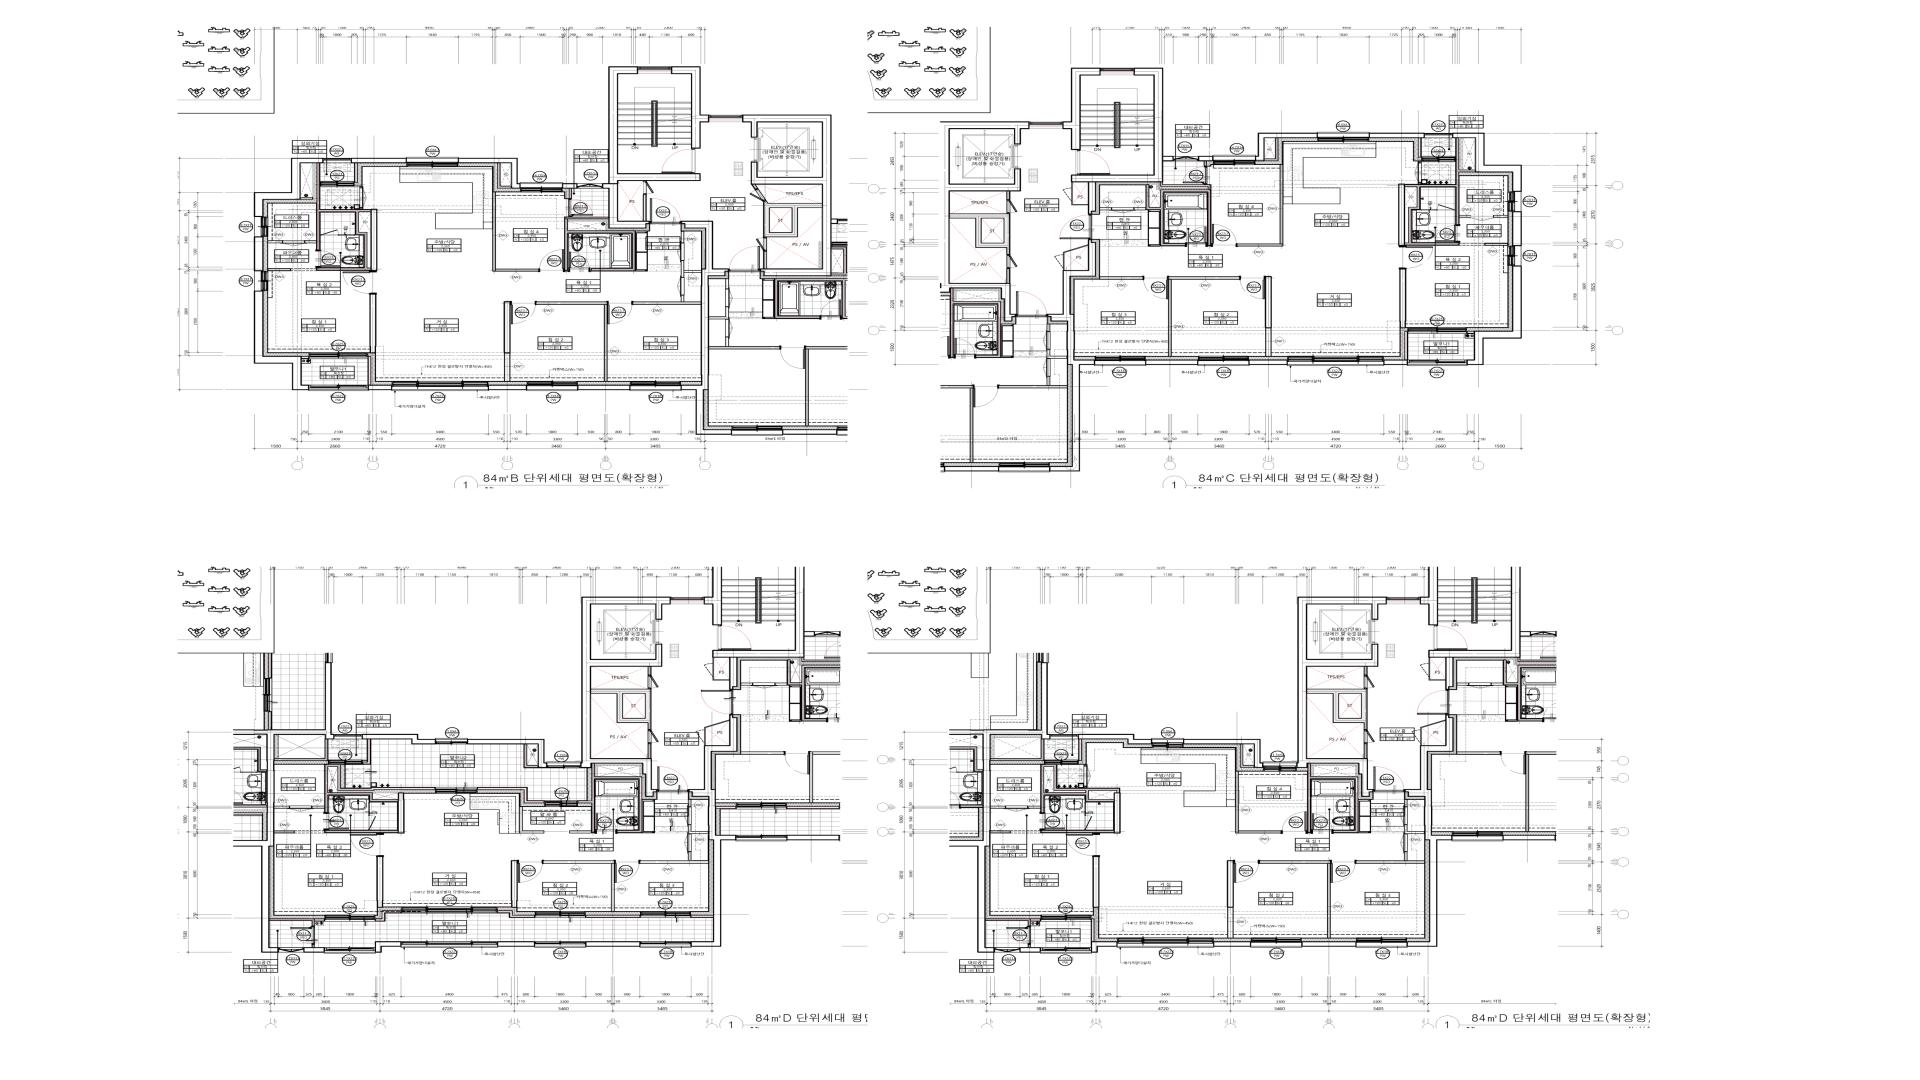door: (717, 625, 752, 650), (1076, 149, 1110, 174), (650, 198, 680, 225), (1373, 766, 1404, 793), (1435, 625, 1468, 650), (662, 149, 696, 173), (343, 270, 377, 294), (1399, 245, 1433, 269), (658, 766, 688, 793), (351, 833, 384, 857), (1067, 833, 1100, 857), (1060, 215, 1092, 239), (1233, 860, 1261, 884), (615, 860, 641, 884), (517, 860, 543, 884), (1331, 860, 1357, 884), (510, 301, 537, 324), (607, 301, 633, 324), (1240, 276, 1266, 299), (1143, 276, 1168, 299), (1282, 811, 1307, 833), (539, 249, 564, 272), (1212, 224, 1237, 247), (1039, 812, 1065, 831), (1435, 224, 1461, 243), (290, 926, 315, 944), (1183, 166, 1208, 185), (323, 812, 349, 829), (595, 814, 617, 833), (568, 252, 591, 272), (1185, 227, 1208, 247), (1006, 927, 1031, 944), (568, 199, 593, 216), (315, 251, 340, 268), (1312, 814, 1333, 833), (748, 189, 766, 204), (1414, 161, 1422, 185), (647, 674, 659, 688), (1364, 729, 1375, 744), (1364, 675, 1375, 688), (756, 237, 767, 251), (360, 186, 367, 210), (1006, 200, 1018, 214), (647, 729, 658, 744), (644, 181, 654, 195), (290, 806, 313, 812), (1084, 765, 1091, 787), (1006, 806, 1029, 812), (1472, 215, 1494, 222), (1112, 207, 1134, 214), (284, 240, 305, 247), (320, 229, 339, 236), (1436, 204, 1455, 211), (368, 815, 376, 829), (1084, 815, 1092, 829)
wall: (582, 596, 671, 796), (1298, 596, 1387, 796), (940, 121, 1029, 322), (977, 731, 1051, 953), (261, 731, 334, 953), (603, 66, 700, 228), (1071, 67, 1174, 215), (742, 115, 831, 277), (1428, 543, 1522, 690), (712, 543, 804, 690), (1404, 715, 1455, 947), (688, 715, 737, 947), (680, 220, 732, 435), (1406, 138, 1476, 245), (1047, 240, 1096, 365), (316, 164, 371, 270), (1168, 277, 1240, 356), (537, 302, 608, 381), (1468, 266, 1522, 365), (255, 291, 309, 390), (1261, 861, 1331, 938), (324, 765, 435, 812), (578, 764, 642, 833), (253, 158, 323, 218), (1452, 133, 1522, 193), (1146, 185, 1212, 247), (1040, 765, 1121, 812), (492, 191, 539, 272), (1237, 165, 1283, 247), (564, 219, 636, 272), (543, 861, 615, 913), (1307, 764, 1358, 833), (671, 66, 709, 149), (704, 543, 742, 625), (1420, 543, 1458, 625), (1063, 69, 1101, 150), (1236, 771, 1282, 833), (467, 738, 547, 769), (1308, 688, 1367, 729), (951, 214, 1010, 255), (1183, 738, 1263, 767), (764, 200, 822, 237), (459, 158, 521, 189), (1255, 133, 1317, 161), (990, 740, 1044, 761), (274, 740, 328, 761), (1042, 767, 1085, 793), (477, 787, 545, 803), (361, 733, 436, 745), (640, 852, 708, 864), (1357, 852, 1424, 864), (1077, 735, 1153, 745), (520, 806, 545, 833), (1420, 720, 1445, 745), (1226, 860, 1234, 939), (633, 295, 700, 305), (1338, 694, 1361, 719), (981, 219, 1004, 243), (504, 302, 510, 382), (1265, 277, 1271, 356), (642, 799, 655, 833), (371, 208, 377, 270), (1092, 857, 1100, 907), (376, 857, 384, 907), (1160, 182, 1211, 190), (369, 295, 376, 353), (253, 236, 264, 272), (1429, 658, 1445, 680), (269, 919, 314, 927), (524, 745, 538, 769), (680, 261, 702, 277), (497, 164, 510, 189), (375, 942, 402, 953), (375, 910, 402, 922), (1513, 211, 1522, 247), (1240, 745, 1254, 767), (1265, 138, 1279, 161), (397, 793, 405, 833), (510, 860, 517, 907), (1091, 942, 1117, 953), (1400, 269, 1406, 327), (497, 910, 535, 918), (351, 158, 407, 164), (986, 919, 1031, 926), (1040, 829, 1114, 833), (324, 829, 398, 833), (585, 942, 641, 947), (1302, 942, 1357, 947), (1369, 133, 1424, 138), (1145, 360, 1199, 365), (576, 385, 630, 390), (1114, 793, 1121, 833), (363, 740, 372, 765), (688, 824, 708, 835), (1249, 360, 1288, 365), (488, 385, 527, 390), (497, 942, 535, 947), (1213, 942, 1251, 947), (1404, 825, 1424, 835), (1019, 947, 1042, 953), (585, 915, 641, 918), (303, 947, 324, 953), (1383, 360, 1408, 365), (368, 385, 392, 390), (1404, 331, 1408, 360), (1100, 277, 1143, 280), (564, 216, 608, 219), (1077, 740, 1083, 761), (642, 195, 646, 220), (268, 268, 291, 272), (1091, 919, 1095, 942), (562, 183, 578, 189), (353, 164, 357, 183), (368, 356, 371, 385), (1199, 156, 1213, 161), (1418, 138, 1422, 157), (764, 251, 767, 269), (690, 915, 713, 918), (1485, 243, 1509, 245), (1006, 268, 1010, 284), (268, 240, 284, 244), (1364, 744, 1367, 758), (990, 831, 1011, 833), (570, 831, 591, 833), (274, 831, 294, 833), (305, 240, 316, 244), (990, 806, 1006, 808), (274, 806, 290, 808), (1493, 215, 1509, 218), (680, 232, 684, 243), (568, 189, 572, 199), (1006, 191, 1010, 200), (1098, 207, 1112, 210), (752, 185, 758, 190), (1029, 806, 1040, 808), (313, 806, 324, 808), (1364, 667, 1367, 675), (1404, 799, 1408, 807), (688, 799, 692, 807), (1460, 215, 1472, 218), (1134, 207, 1146, 210), (301, 198, 313, 200), (1031, 919, 1042, 922), (315, 919, 324, 922), (1466, 331, 1474, 334), (302, 356, 309, 359), (1204, 161, 1207, 166), (1027, 944, 1031, 947), (363, 760, 367, 762), (311, 944, 315, 947)
window: (1117, 938, 1213, 948), (392, 381, 488, 392), (1288, 356, 1383, 365), (402, 942, 497, 948), (402, 907, 497, 914), (407, 157, 459, 167), (1095, 356, 1146, 367), (1251, 938, 1302, 948), (1357, 938, 1407, 948), (1199, 356, 1249, 367), (1317, 132, 1369, 141), (630, 381, 680, 390), (527, 381, 578, 390), (520, 183, 563, 193), (309, 385, 368, 392), (309, 352, 368, 359), (1408, 360, 1468, 367), (1213, 156, 1255, 165), (641, 942, 691, 948), (535, 911, 585, 918), (535, 942, 585, 948), (1040, 947, 1091, 953), (641, 911, 690, 918), (326, 915, 375, 922), (1042, 915, 1091, 922), (1263, 762, 1298, 771), (1408, 328, 1466, 334), (1153, 738, 1183, 748), (435, 787, 477, 794), (1507, 247, 1522, 265), (1507, 193, 1522, 211), (324, 948, 375, 953), (1030, 121, 1063, 129), (638, 66, 671, 74), (255, 272, 268, 291), (255, 218, 268, 237), (1101, 67, 1134, 75), (547, 762, 582, 769), (742, 543, 775, 550), (545, 800, 578, 807), (671, 597, 704, 604), (1458, 543, 1491, 550), (1387, 597, 1420, 604), (709, 115, 742, 121), (1044, 760, 1079, 765), (328, 760, 363, 765), (320, 181, 355, 186), (1422, 157, 1456, 162), (436, 738, 467, 744), (323, 158, 351, 164), (1051, 735, 1077, 740), (335, 735, 361, 740), (1425, 133, 1452, 138), (996, 947, 1019, 952), (578, 183, 601, 189), (278, 948, 303, 952), (1174, 157, 1197, 161)
